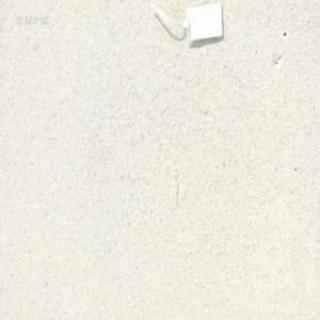LuggageTagtrack_idkeyframe: (145, 0, 223, 48)
